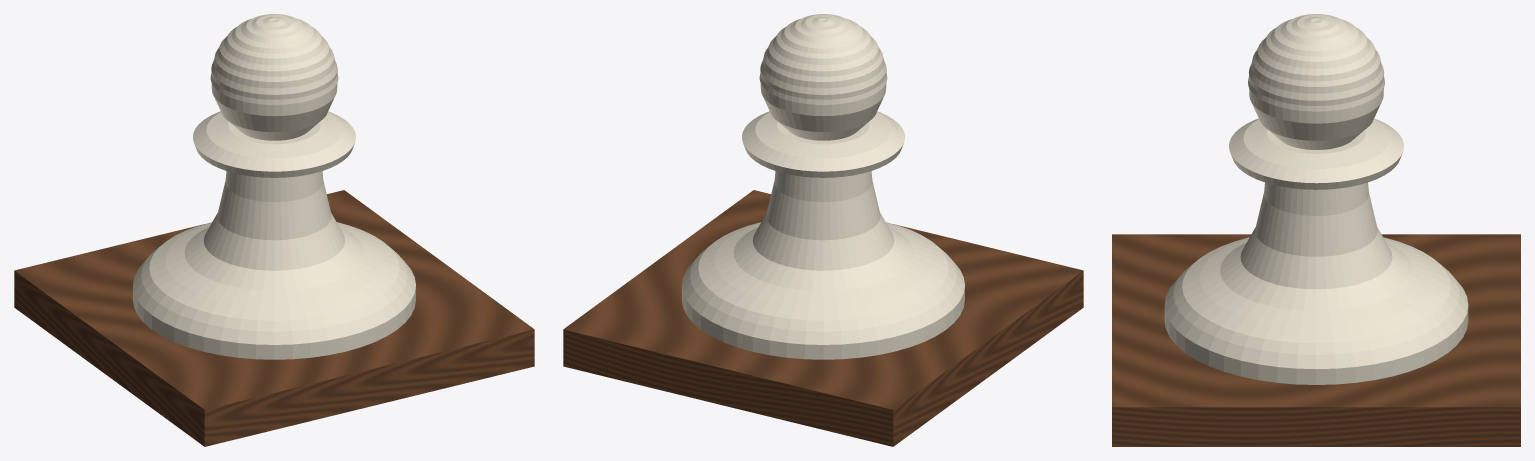
Rendered from pawn.obj.
3 views of the same model, side by side, from view 1: azimuth 30°, elevation 25°; view 2: azimuth 150°, elevation 25°; view 3: azimuth 270°, elevation 25° (orthographic). The views are drawn at different scales.
Visible parts, largest first — view 1: Pawn, Plinth; view 2: Pawn, Plinth; view 3: Pawn, Plinth.
Part boxes in pixels (bbox=[...]): Pawn: bbox=[133, 14, 415, 359]; Plinth: bbox=[14, 190, 534, 446]; Pawn: bbox=[682, 14, 964, 359]; Plinth: bbox=[563, 190, 1083, 446]; Pawn: bbox=[1164, 14, 1468, 384]; Plinth: bbox=[1112, 234, 1520, 446].
Bounding box in the file's own units: 14 × 12.85 × 14.
Materials: 2 (1 with a texture image).
